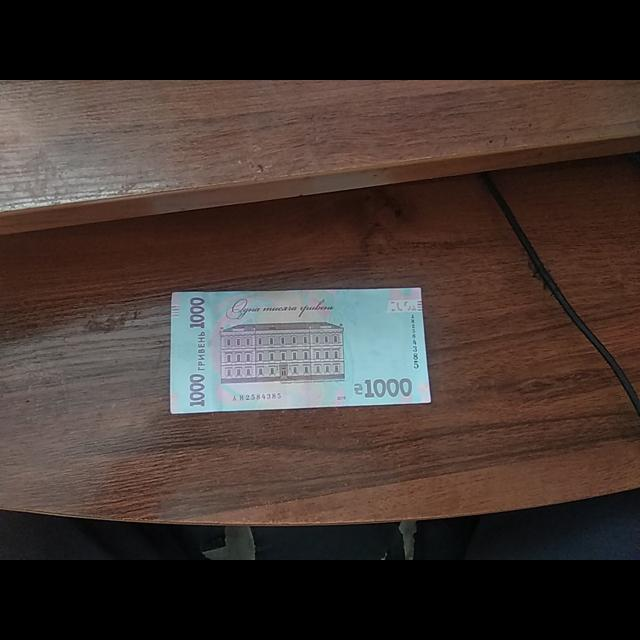1000uah: (170, 285, 430, 414)
